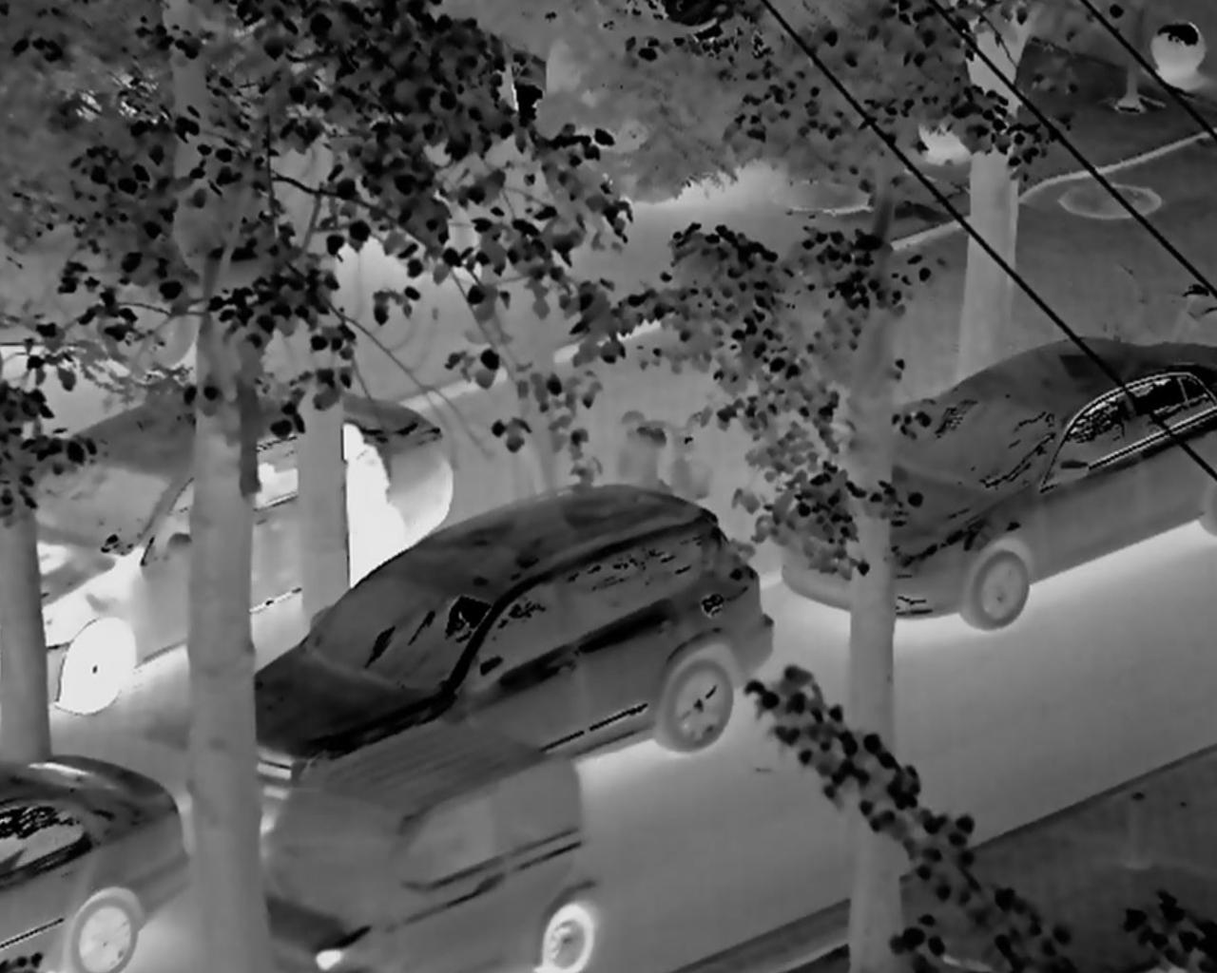person: (334, 410, 405, 598)
